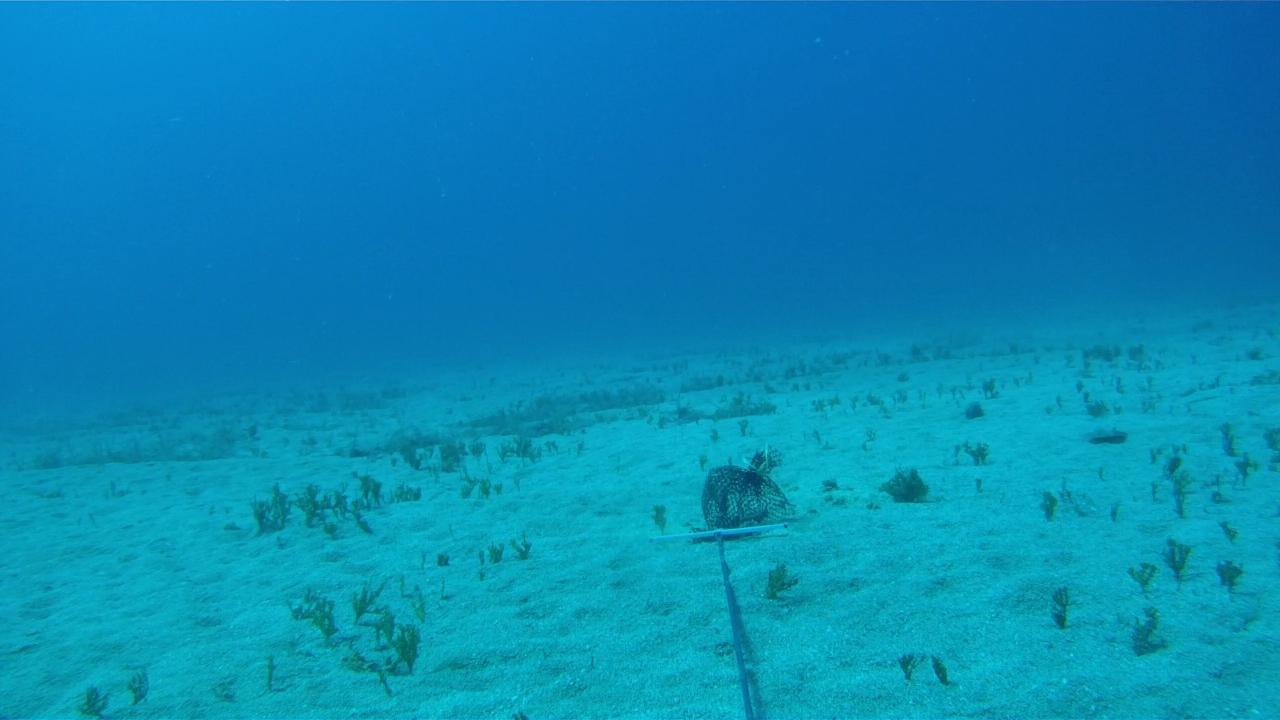bothus: (1083, 426, 1130, 447)
